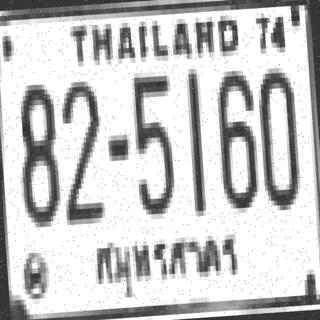N00: (253, 62, 299, 206)
N01: (182, 68, 206, 211)
N02: (56, 76, 104, 220)
N05: (128, 70, 176, 215)
N06: (212, 65, 258, 209)
N08: (13, 78, 59, 223)
P58: (91, 223, 249, 306)
